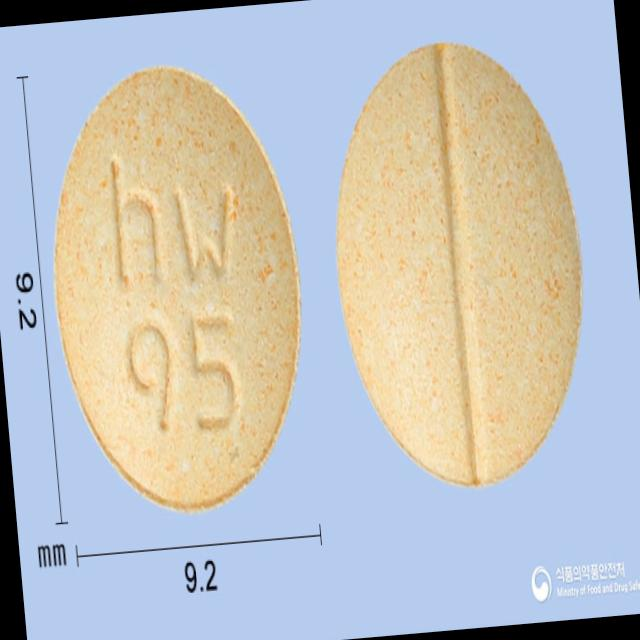Doxy: (33, 53, 322, 524)
